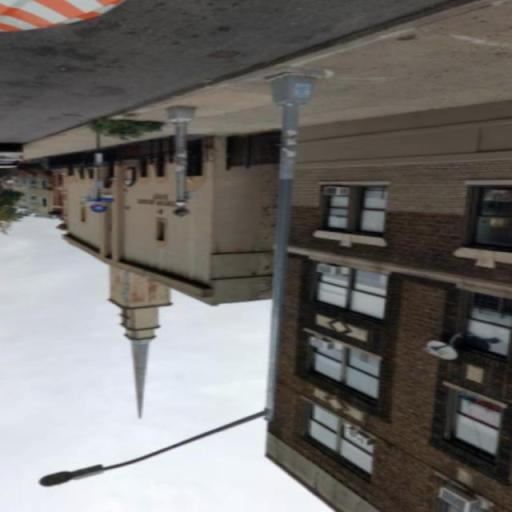off: (20, 452, 138, 496)
